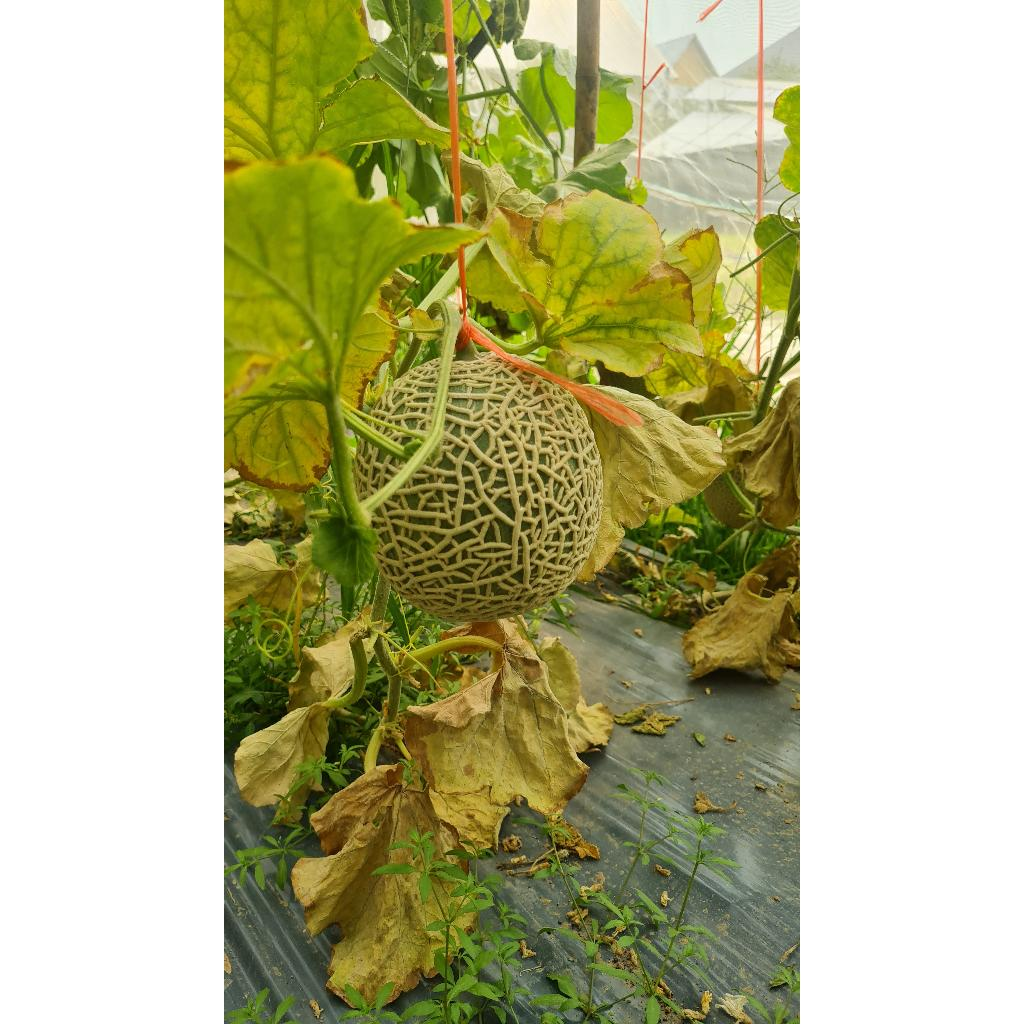melon: (374, 354, 602, 622), (372, 362, 438, 432)
